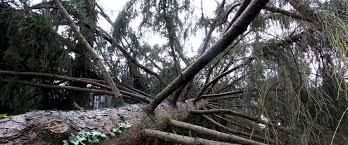Downstairs: (1, 1, 348, 145)
